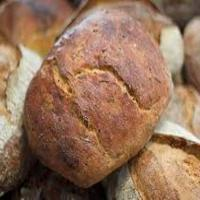biodegradable: (23, 8, 175, 189)
